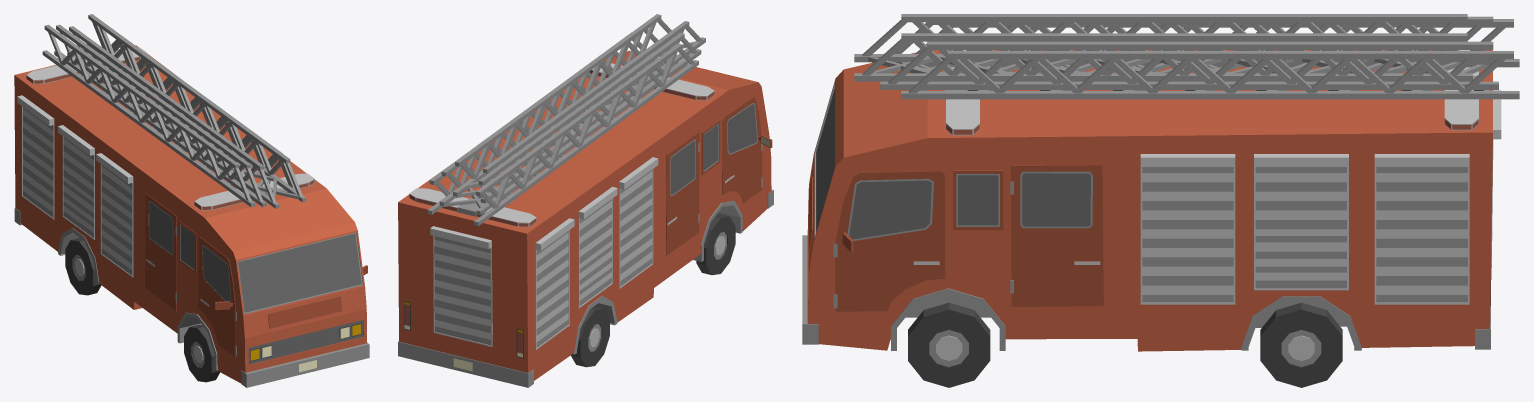
The model's file is fire engine.fbx.
3 views of the same model, side by side, from view 1: azimuth 30°, elevation 25°; view 2: azimuth 150°, elevation 25°; view 3: azimuth 270°, elevation 25° (orthographic). The views are drawn at different scales.
Visible parts, largest first — view 1: yu_1, Cylinder_2_1, Cylinder_2_3; view 2: yu_1, Cylinder_2_1, Cylinder_2_3; view 3: yu_1, Cylinder_2, Cylinder_2_2.
Part boxes in pixels (bbox=[...]): yu_1: bbox=[14, 14, 369, 387]; Cylinder_2_1: bbox=[184, 325, 219, 382]; Cylinder_2_3: bbox=[65, 238, 101, 295]; yu_1: bbox=[398, 14, 773, 387]; Cylinder_2_1: bbox=[696, 214, 735, 275]; Cylinder_2_3: bbox=[571, 306, 609, 367]; yu_1: bbox=[802, 14, 1519, 351]; Cylinder_2: bbox=[908, 302, 990, 387]; Cylinder_2_2: bbox=[1260, 302, 1342, 387].
Bounding box in the file's own units: 184 × 248 × 505.
